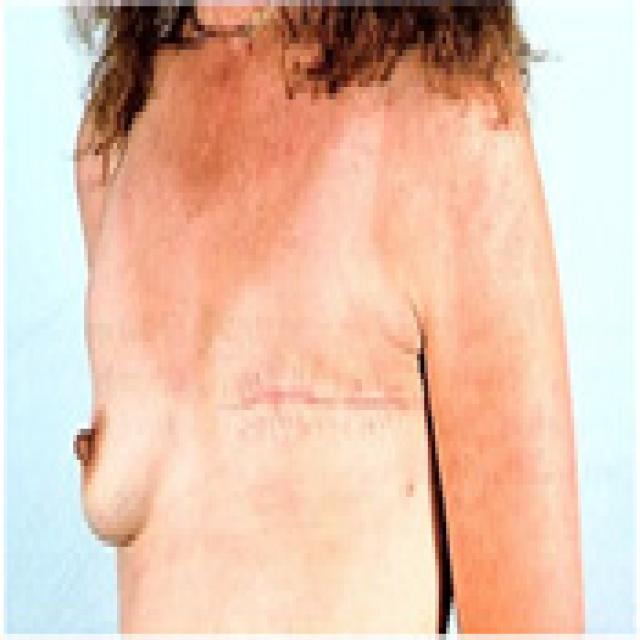Seno herido: (184, 279, 435, 525)
Seno ileso: (68, 279, 178, 575)
